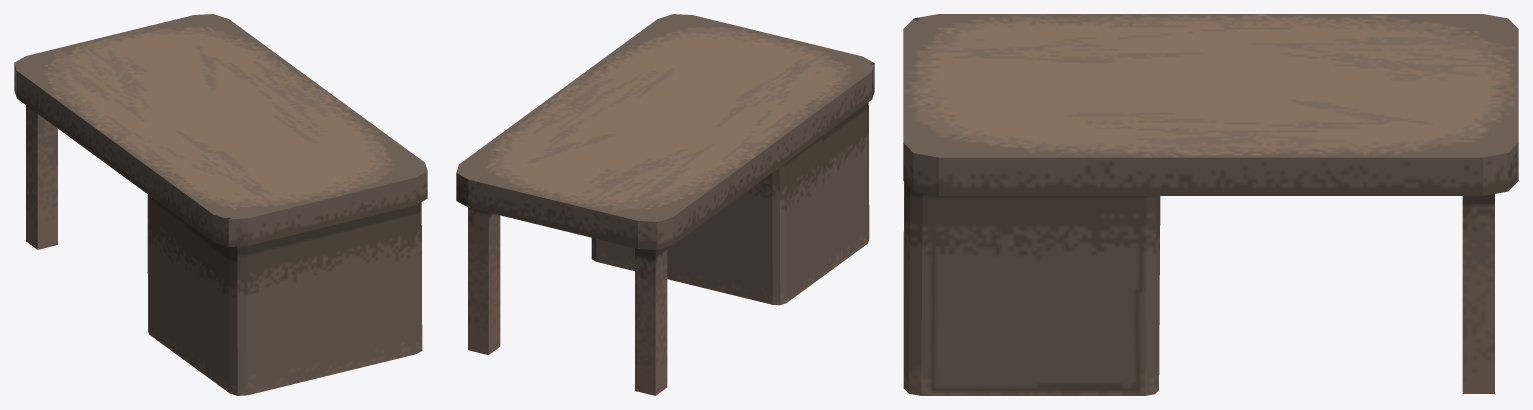
Rendered from table.fbx.
3 views of the same model, side by side, from view 1: azimuth 30°, elevation 25°; view 2: azimuth 150°, elevation 25°; view 3: azimuth 270°, elevation 25° (orthographic). The views are drawn at different scales.
Parts seen in each view (by area): view 1: Cube; view 2: Cube; view 3: Cube.
Part boxes in pixels (x1,y1,x2,y2): Cube: (14, 14, 427, 395); Cube: (456, 14, 874, 395); Cube: (903, 14, 1518, 395).
Bounding box in the file's own units: 580 × 320 × 255.
